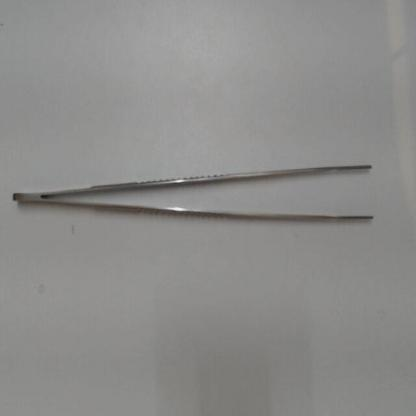DeBakey Dissector: (5, 146, 391, 234)
